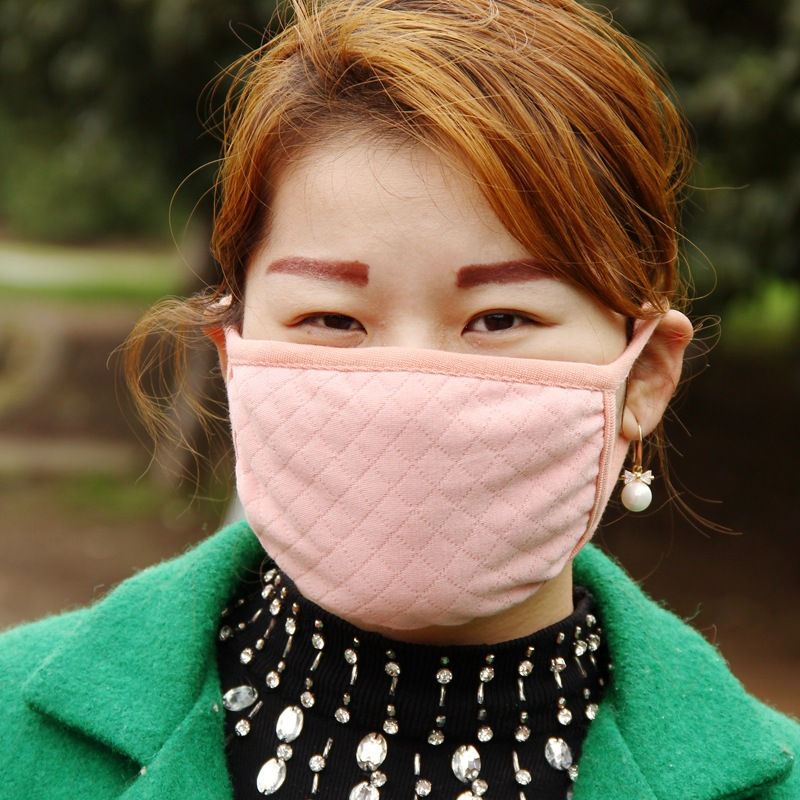face_mask: (241, 131, 621, 614)
